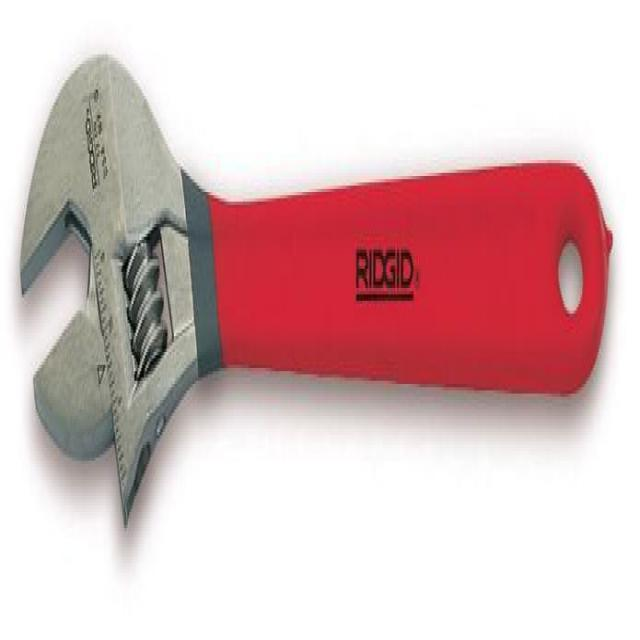wrench: (15, 37, 613, 534)
